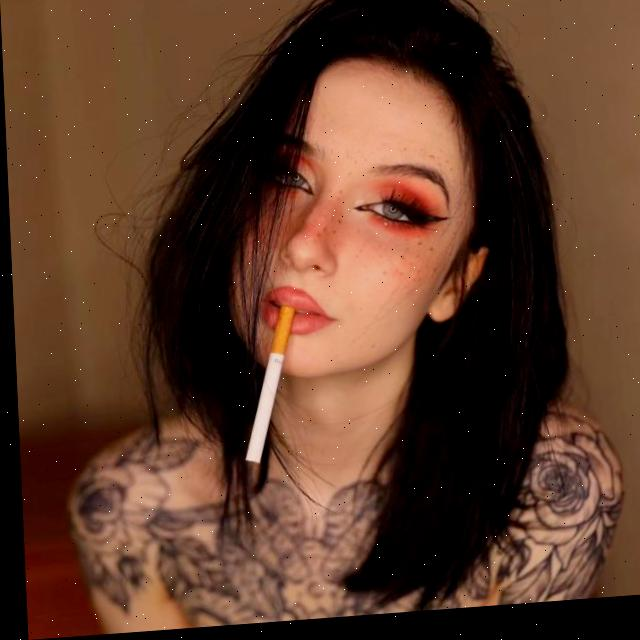cigarette: (238, 312, 296, 467)
